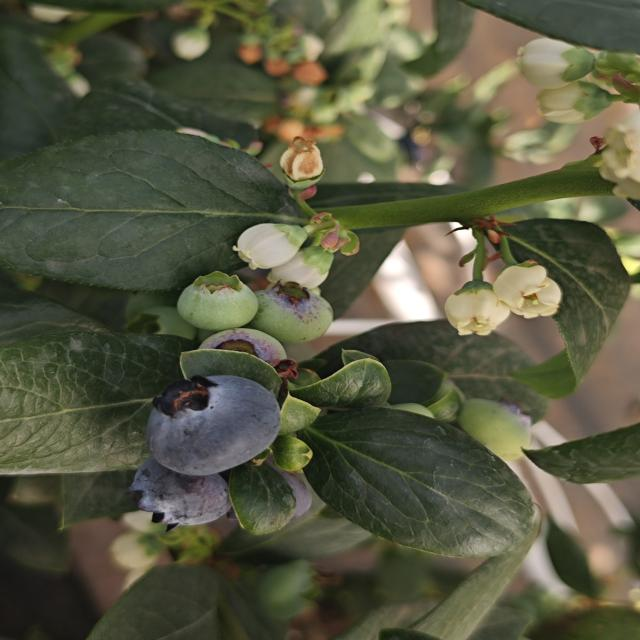ripe: (138, 377, 286, 479), (127, 462, 236, 529), (241, 465, 318, 528)
